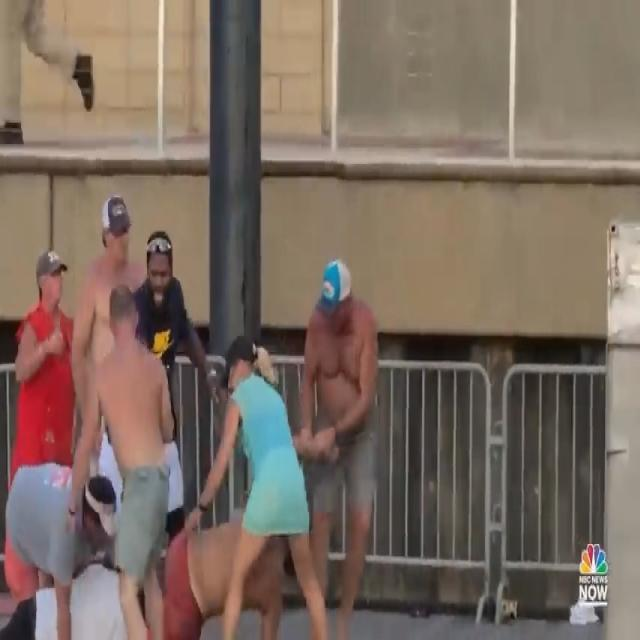fight: (0, 170, 384, 640)
